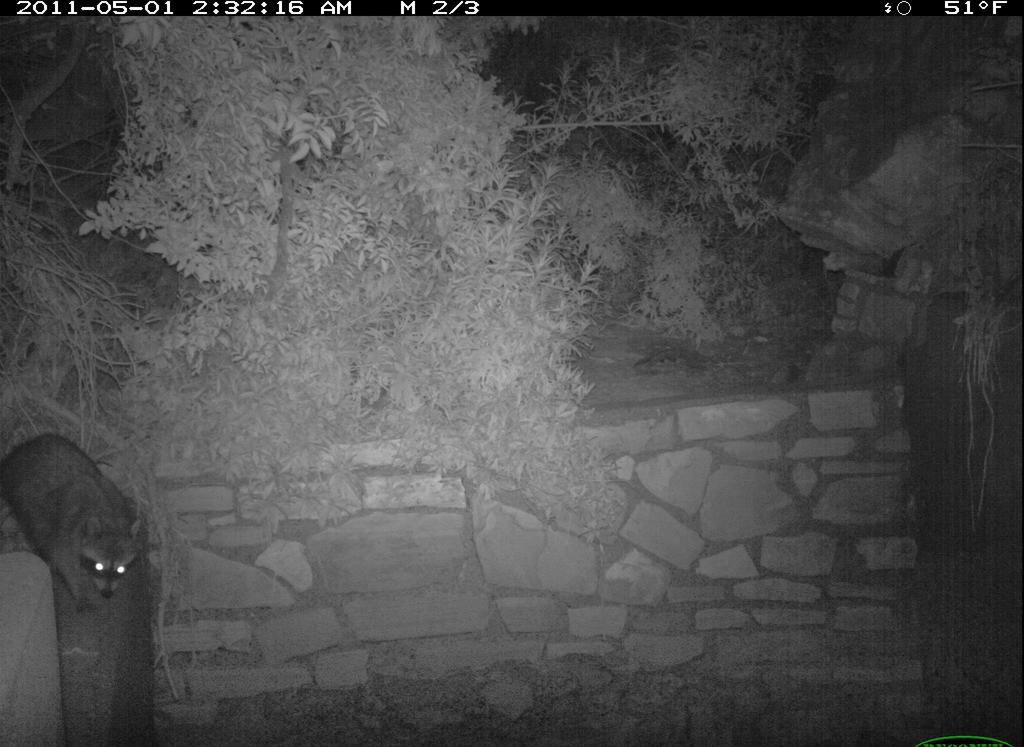raccoon: (1, 417, 161, 613)
